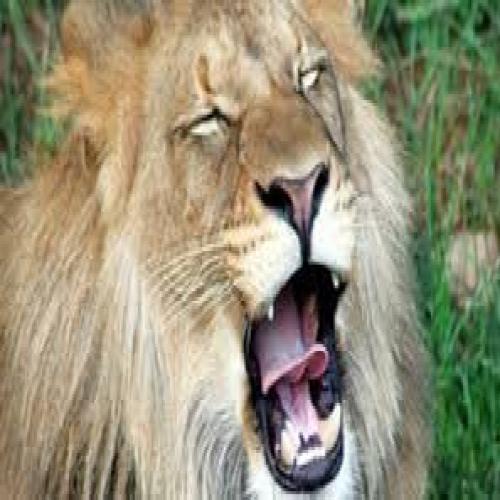lion-endangered: (57, 2, 405, 500)
